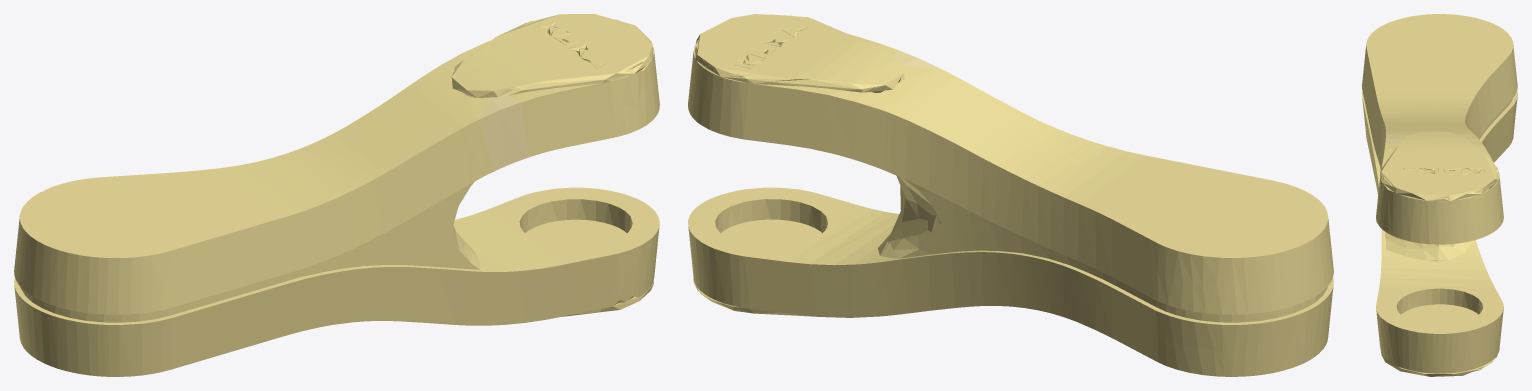
The model's file is KukaKR6R900Link2.dae.
3 views of the same model, side by side, from view 1: azimuth 30°, elevation 25°; view 2: azimuth 150°, elevation 25°; view 3: azimuth 270°, elevation 25° (orthographic). The views are drawn at different scales.
Parts seen in each view (by area): view 1: KUKAKR6R900Link2; view 2: KUKAKR6R900Link2; view 3: KUKAKR6R900Link2.
Part boxes in pixels (box(x1,y1,x2,y2)): KUKAKR6R900Link2: box(14, 14, 659, 376); KUKAKR6R900Link2: box(688, 14, 1333, 376); KUKAKR6R900Link2: box(1362, 14, 1517, 376).
Size of the model in its own units: 0.6198 by 0.1762 by 0.2271.
